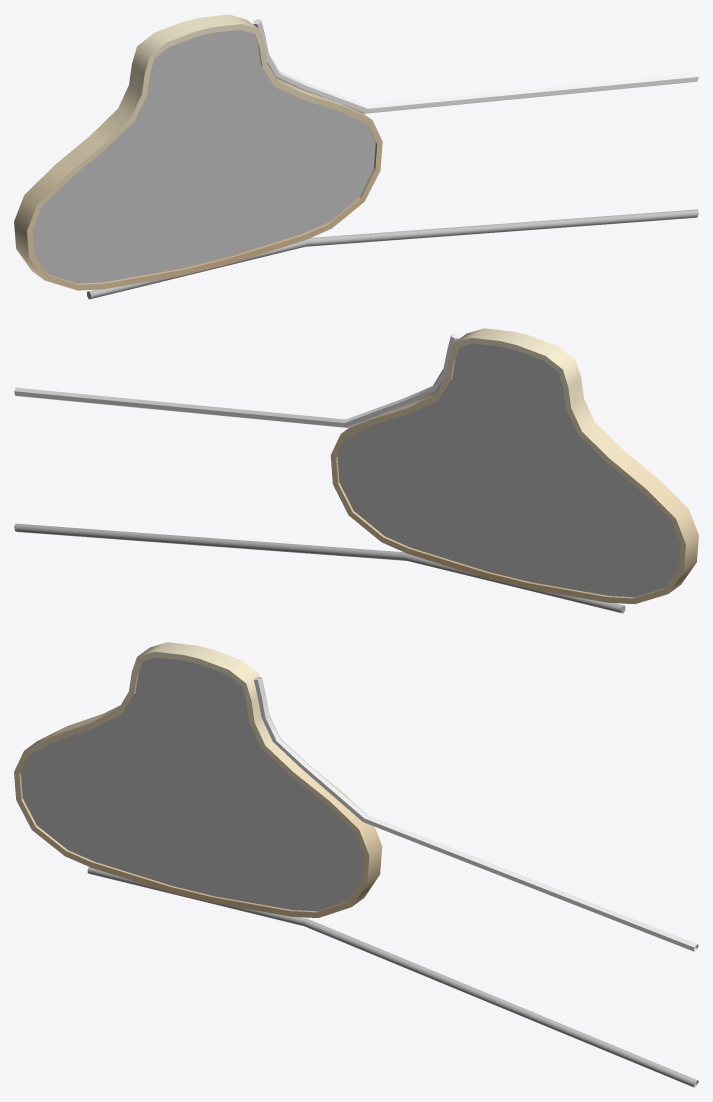
Rendered from SM_HangingSign_CurryHouse.fbx.
3 views of the same model, one above another, from view 1: azimuth 30°, elevation 25°; view 2: azimuth 150°, elevation 25°; view 3: azimuth 330°, elevation 25° (orthographic).
Visible parts, largest first — view 1: SM_HangingSign_CurryHouse; view 2: SM_HangingSign_CurryHouse; view 3: SM_HangingSign_CurryHouse.
Boxes of the visible parts, x1,y1,x2,y2 form: SM_HangingSign_CurryHouse: (14, 14, 698, 299); SM_HangingSign_CurryHouse: (14, 328, 698, 613); SM_HangingSign_CurryHouse: (14, 642, 698, 1087).
Bounding box in the file's own units: 323 × 143 × 10.69.
